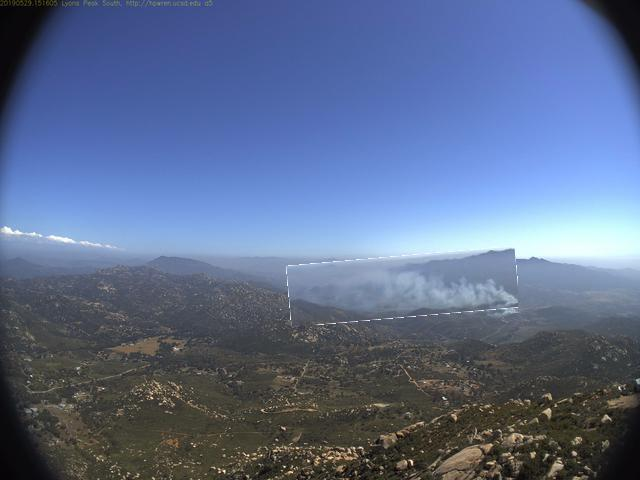smoke: (288, 252, 519, 323)
